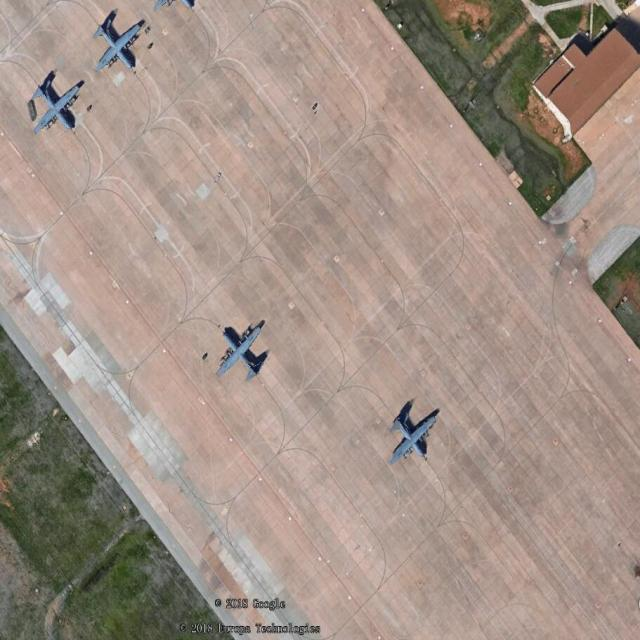fighter jet: (383, 398, 440, 468), (216, 318, 265, 389), (30, 72, 76, 136), (98, 20, 142, 78)
